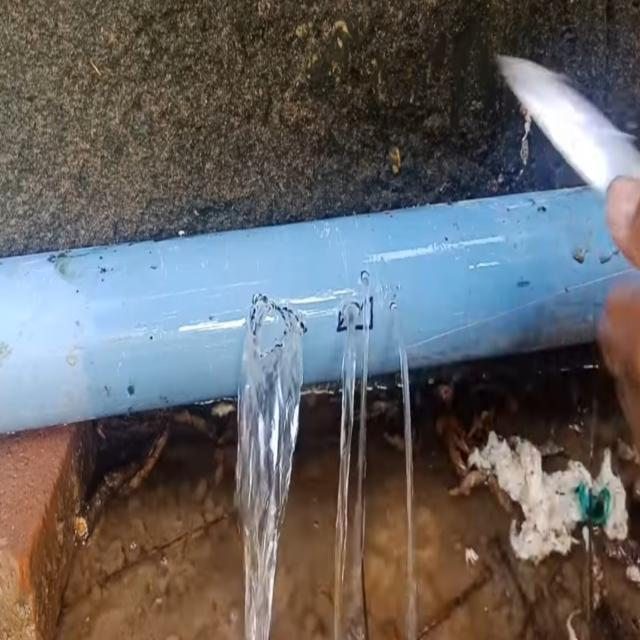leak: (235, 296, 305, 640), (334, 271, 372, 639), (399, 340, 418, 640)
